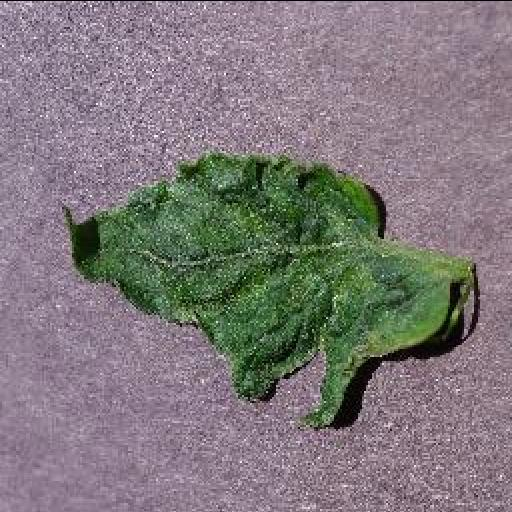disease_tomato: (52, 150, 448, 430)
